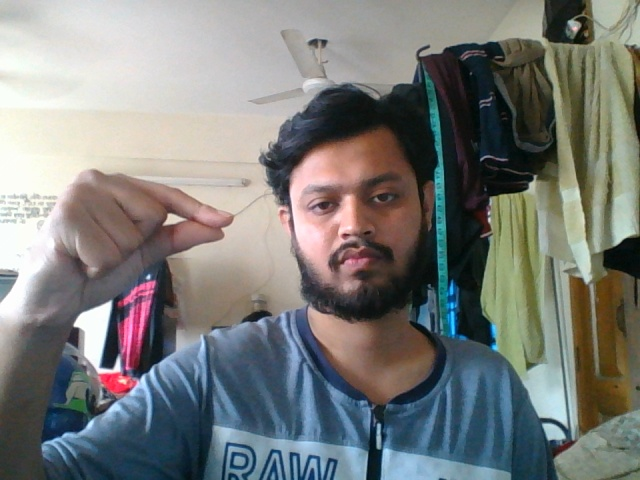onushhar: (3, 158, 246, 322)
